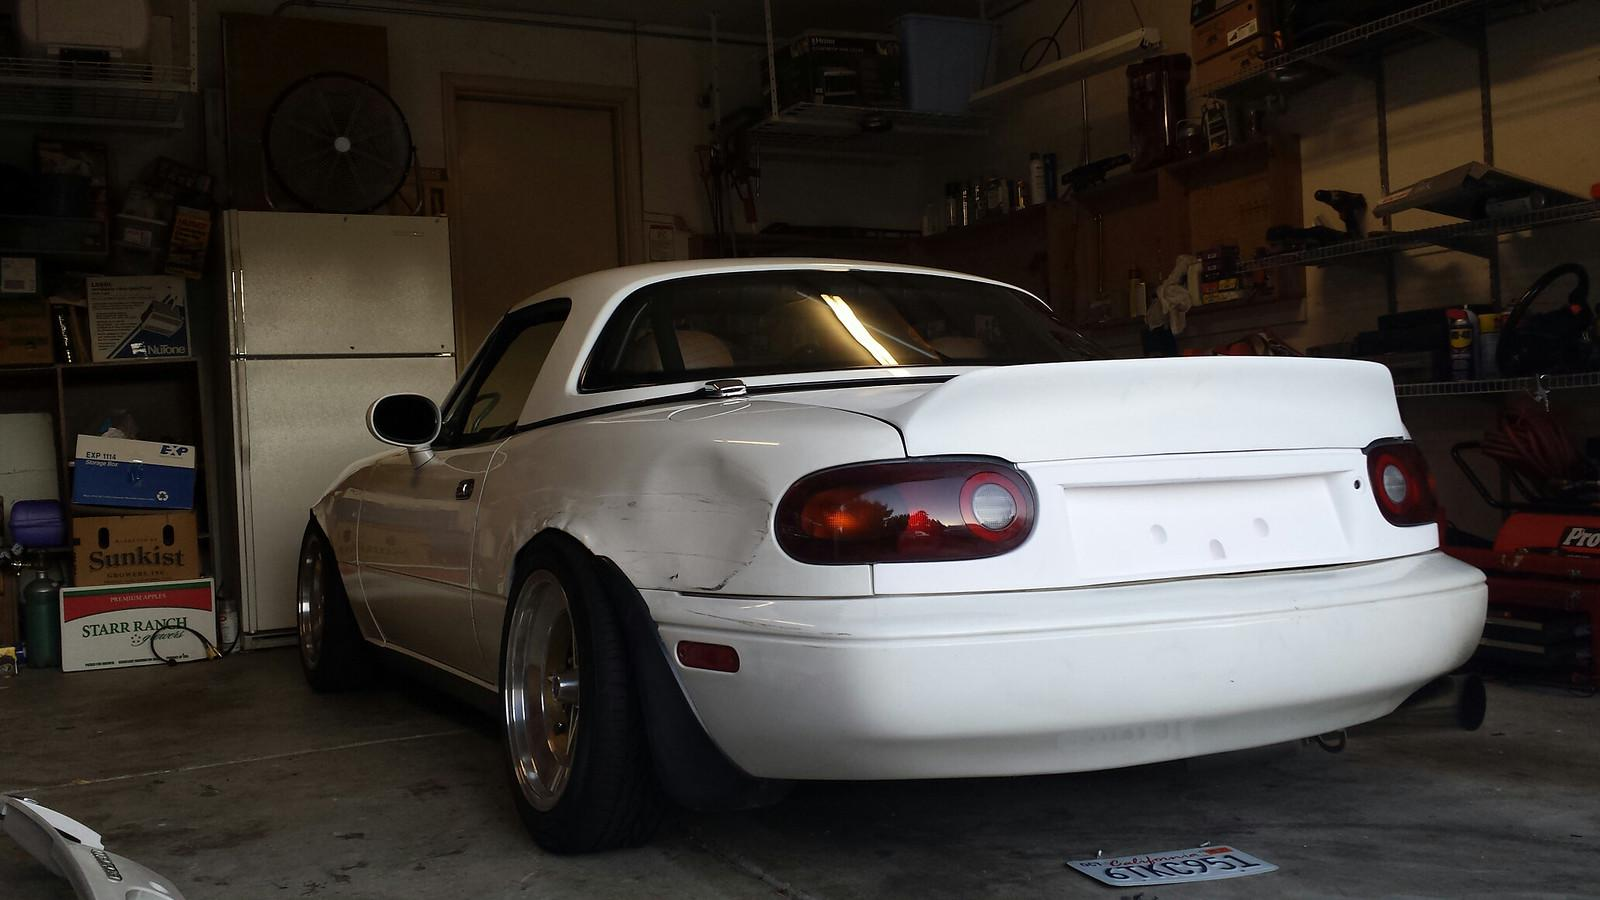quaterpanel-dent: (513, 427, 815, 590)
